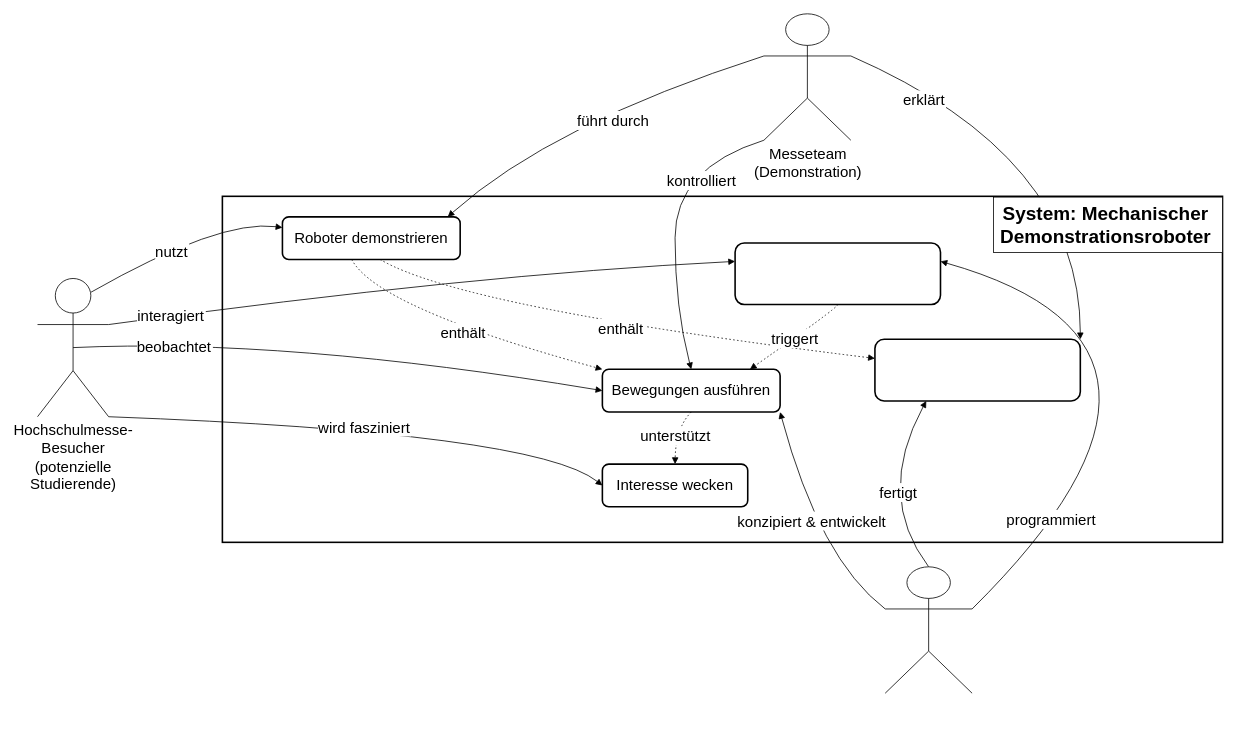
Image size: 1237x749. Some labels were removed from this diagram. Each missing label, with the centre of its shape:
Interaktive Funktionen nutzen: point 837,273
Projektteam (Entwicklung): point 928,629
Systemkomponenten präsentieren: point 977,369
